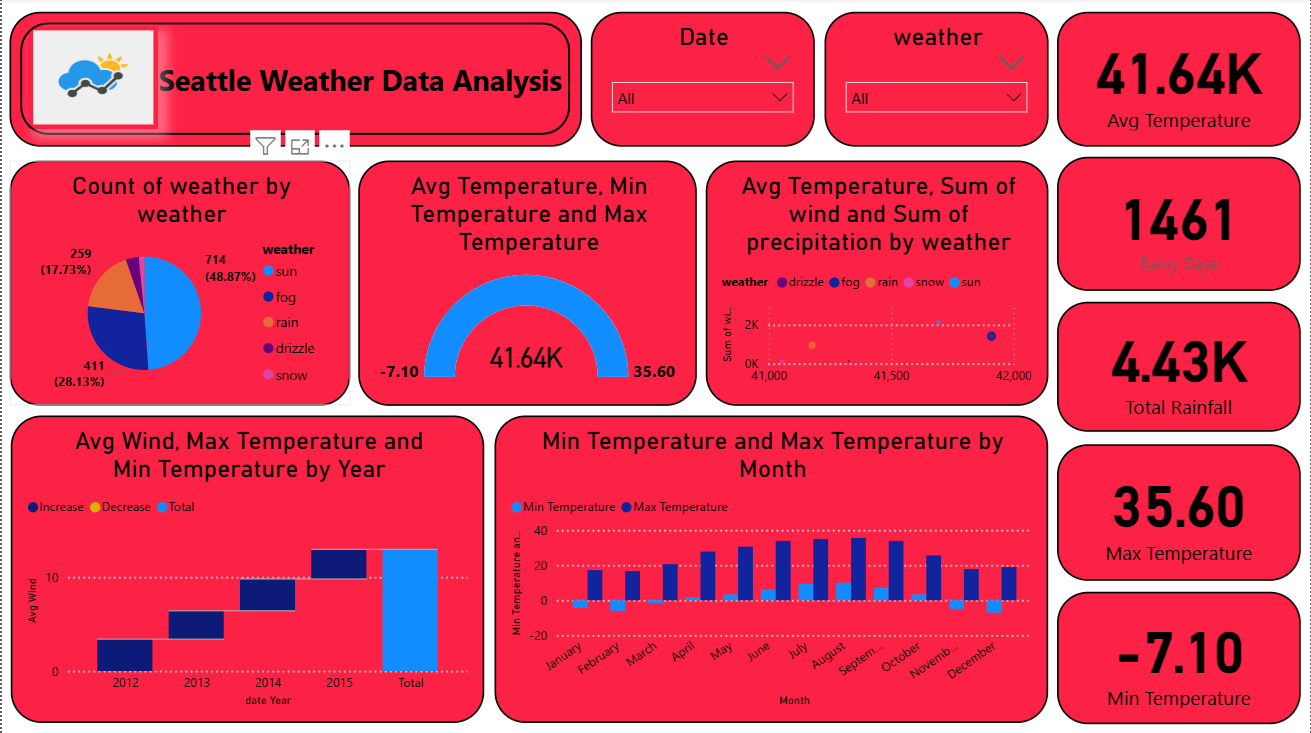

This screenshot's page, from the dashboard's own definition file:
{"tool":"powerbi","page":{"name":"Page 1","canvas":[1280,720],"ordinal":0},"visuals":[{"type":"card","fields":{"Values":["seattle-weather.Avg Temperature"]},"box":[1032.1,13.5,238.5,132.1],"z":0},{"type":"card","fields":{"Values":["seattle-weather.Total Rainfall"]},"box":[1032.1,297.1,238.5,127.2],"z":1000},{"type":"card","fields":{"Values":["seattle-weather.Rainy Days"]},"box":[1032.1,155.3,238.5,130.8],"z":2000},{"type":"card","fields":{"Values":["seattle-weather.Max Temperature"]},"box":[1032.1,436.6,238.5,133.3],"z":3000},{"type":"card","fields":{"Values":["seattle-weather.Min Temperature"]},"box":[1032.1,580.8,238.5,129.6],"z":4000},{"type":"shape","box":[7.3,13.5,560.1,132.1],"z":5000},{"type":"slicer","title":"weather","fields":{"Values":["seattle-weather.weather"]},"box":[804.6,13.5,218.9,132.1],"z":6000},{"type":"image","box":[25.7,26.9,127.2,101.5],"z":7000},{"type":"clusteredColumnChart","fields":{"Y":["seattle-weather.Min Temperature","seattle-weather.Max Temperature"],"Category":["seattle-weather.date.Variation.Date Hierarchy.Month"]},"box":[481.8,408.4,541.7,300.8],"z":8000},{"type":"waterfallChart","fields":{"Category":["seattle-weather.date.Variation.Date Hierarchy.Year","seattle-weather.date.Variation.Date Hierarchy.Quarter","seattle-weather.date.Variation.Date Hierarchy.Month","seattle-weather.date.Variation.Date Hierarchy.Day"],"Y":["seattle-weather.Avg Wind"]},"box":[8.6,408.4,463.5,300.8],"z":9000},{"type":"gauge","fields":{"MinValue":["seattle-weather.Min Temperature"],"MaxValue":["seattle-weather.Max Temperature"],"Y":["seattle-weather.Avg Temperature"]},"box":[348.5,159,331.4,239.7],"z":10000},{"type":"pieChart","fields":{"Category":["seattle-weather.weather"],"Y":["CountNonNull(seattle-weather.weather)"]},"box":[7.3,159,333.8,239.7],"z":11000},{"type":"slicer","title":"Date","fields":{"Values":["seattle-weather.date"]},"box":[576,13.5,218.9,132.1],"z":12000},{"type":"scatterChart","fields":{"X":["seattle-weather.Avg Temperature"],"Y":["Sum(seattle-weather.wind)"],"Series":["seattle-weather.weather"],"Size":["Sum(seattle-weather.precipitation)"]},"box":[688.5,159,335.1,239.7],"z":13000}]}

Visuals, with their boxes in screenshot pixels (x1, y1, x2, y2), scaled from the page's 1280x720 canvas onto the 1311x733 screenshot:
card - seattle-weather.Avg Temperature: [x1=1057, y1=14, x2=1301, y2=148]
card - seattle-weather.Total Rainfall: [x1=1057, y1=302, x2=1301, y2=432]
card - seattle-weather.Rainy Days: [x1=1057, y1=158, x2=1301, y2=291]
card - seattle-weather.Max Temperature: [x1=1057, y1=444, x2=1301, y2=580]
card - seattle-weather.Min Temperature: [x1=1057, y1=591, x2=1301, y2=723]
shape: [x1=7, y1=14, x2=581, y2=148]
"weather" slicer: [x1=824, y1=14, x2=1048, y2=148]
image: [x1=26, y1=27, x2=157, y2=131]
clusteredColumnChart - seattle-weather.Min Temperature x seattle-weather.Max Temperature: [x1=493, y1=416, x2=1048, y2=722]
waterfallChart - seattle-weather.date.Variation.Date Hierarchy.Year x seattle-weather.date.Variation.Date Hierarchy.Quarter: [x1=9, y1=416, x2=484, y2=722]
gauge - seattle-weather.Min Temperature x seattle-weather.Max Temperature: [x1=357, y1=162, x2=696, y2=406]
pieChart - seattle-weather.weather x CountNonNull(seattle-weather.weather): [x1=7, y1=162, x2=349, y2=406]
"Date" slicer: [x1=590, y1=14, x2=814, y2=148]
scatterChart - seattle-weather.Avg Temperature x Sum(seattle-weather.wind): [x1=705, y1=162, x2=1048, y2=406]
